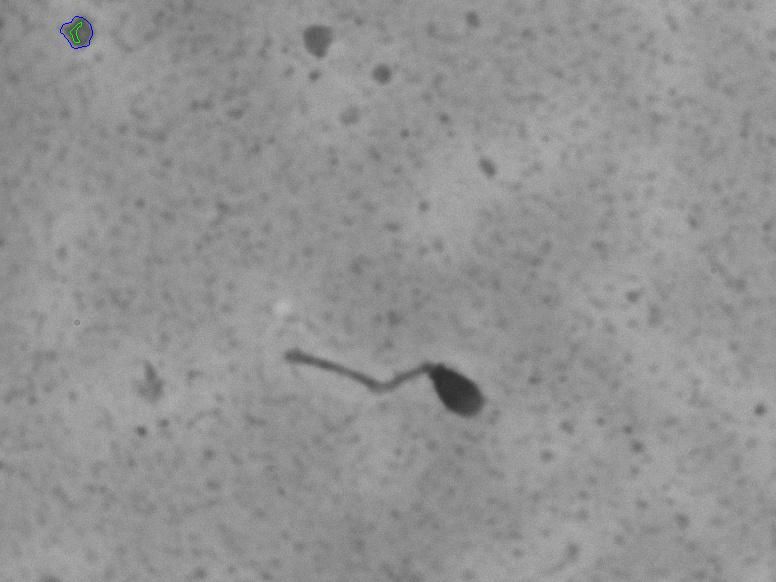Abnormal: (217, 291, 532, 465)
